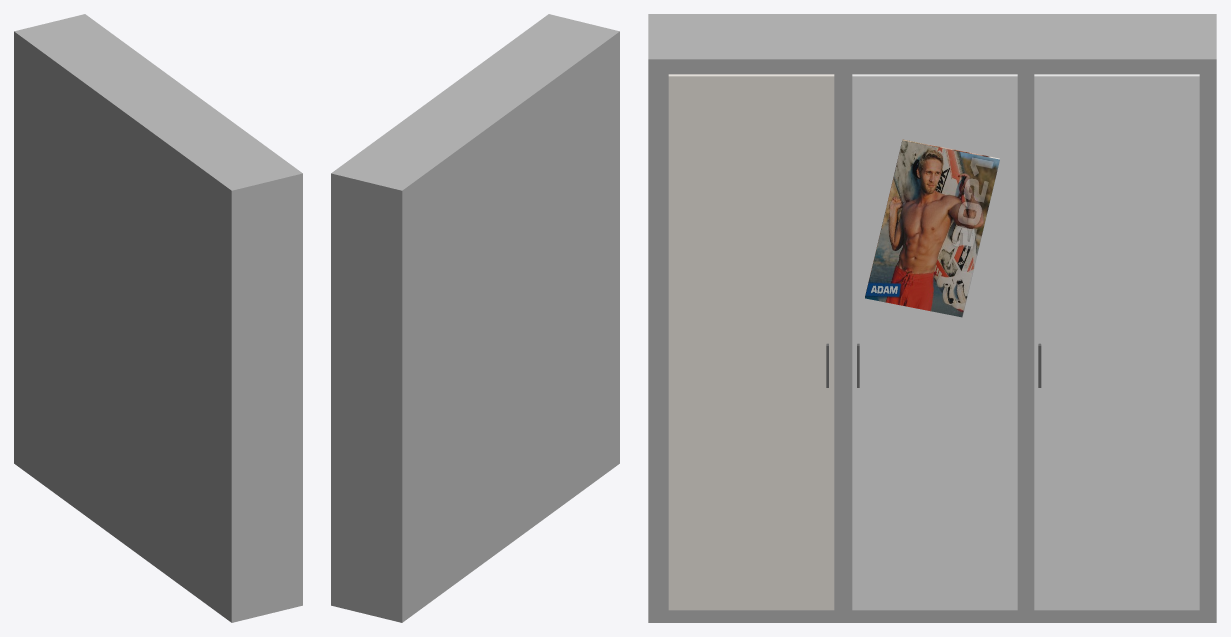
File: Skab_-_escape_Boas.fbx
3 renders of one model, left to right at view 1: azimuth 30°, elevation 25°; view 2: azimuth 150°, elevation 25°; view 3: azimuth 270°, elevation 25°, orthographic. The views are drawn at different scales.
Parts seen in each view (by area): view 1: Cube; view 2: Cube; view 3: Cube.001, Cube.003, Cube, Cube.002, Cube.013.
Part boxes in pixels (x1,y1,x2,y2): Cube: [14, 14, 302, 622]; Cube: [331, 14, 619, 622]; Cube.001: [668, 74, 834, 610]; Cube.003: [1034, 74, 1199, 610]; Cube: [648, 14, 1216, 622]; Cube.002: [852, 74, 1017, 610]; Cube.013: [865, 139, 999, 317].
Bounding box in the file's own units: 137 × 698 × 637.
14 materials, 1 textured.
